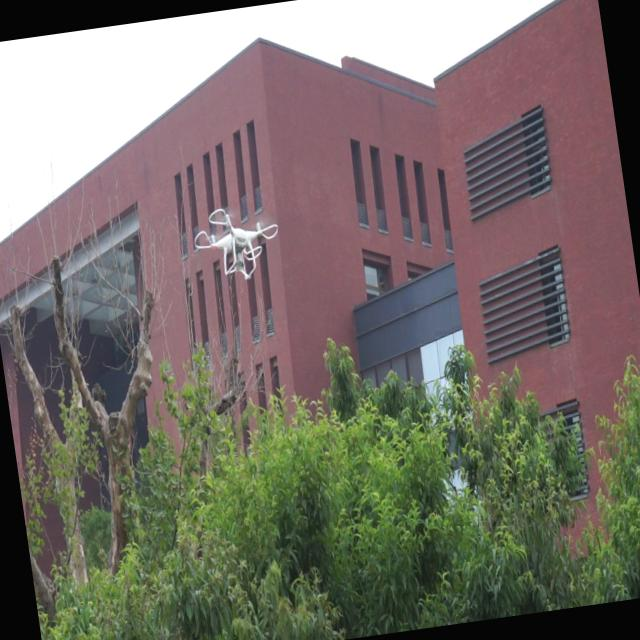drone: (188, 196, 286, 288)
